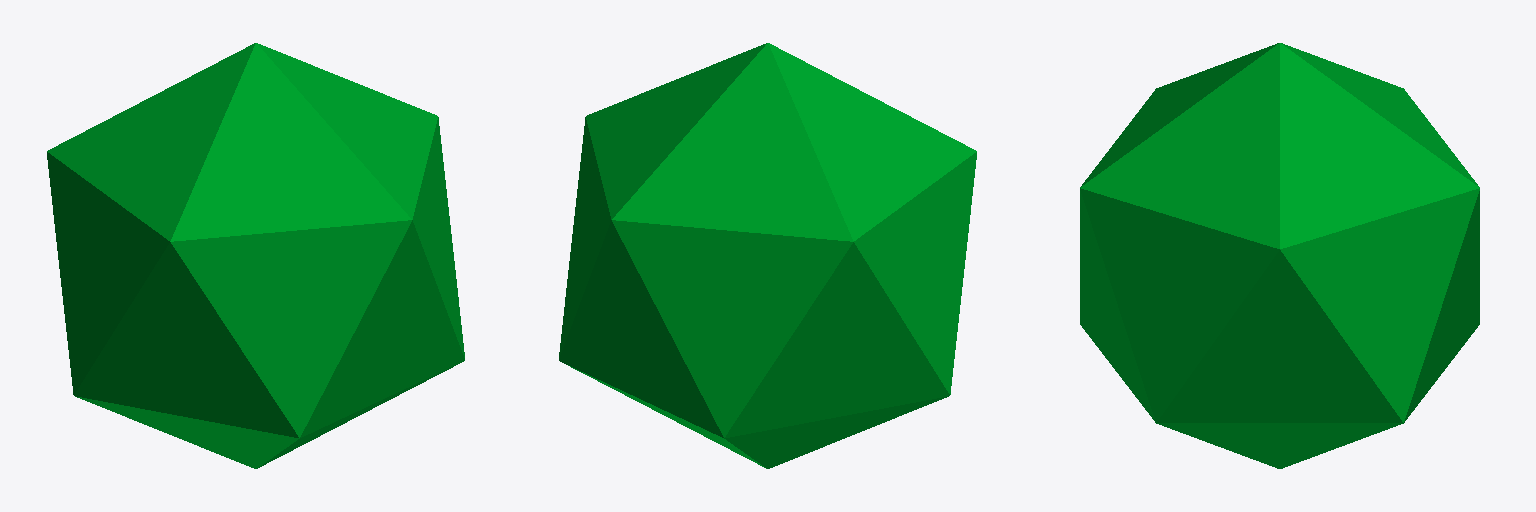
Rendered from inc-ball-speed-bonus.obj.
3 renders of one model, left to right at view 1: azimuth 30°, elevation 25°; view 2: azimuth 150°, elevation 25°; view 3: azimuth 270°, elevation 25°, orthographic.
Bounding box in the file's own units: 0.4423 × 0.4946 × 0.4207.